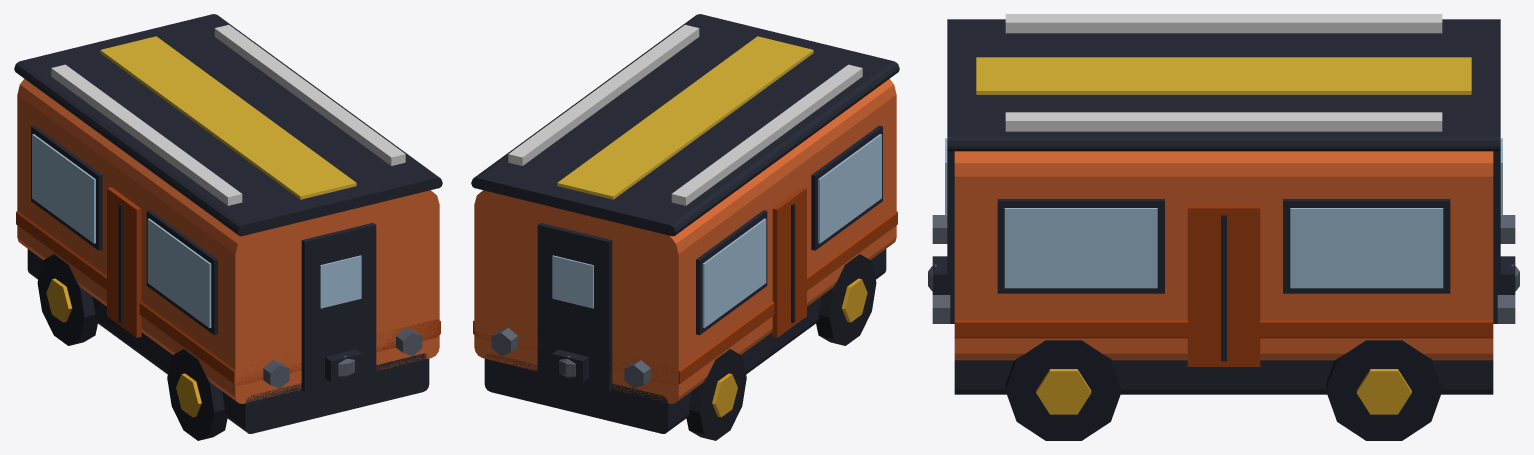
File: train_ride.glb
3 renders of one model, left to right at view 1: azimuth 30°, elevation 25°; view 2: azimuth 150°, elevation 25°; view 3: azimuth 270°, elevation 25°, orthographic. The views are drawn at different scales.
Parts seen in each view (by area): view 1: train_ride; view 2: train_ride; view 3: train_ride.
Part boxes in pixels (box(x1,y1,x2,y2)): train_ride: box(14, 14, 442, 440); train_ride: box(471, 14, 899, 440); train_ride: box(928, 14, 1519, 440).
Size of the model in its own units: 2.13 by 2.36 by 4.06.
